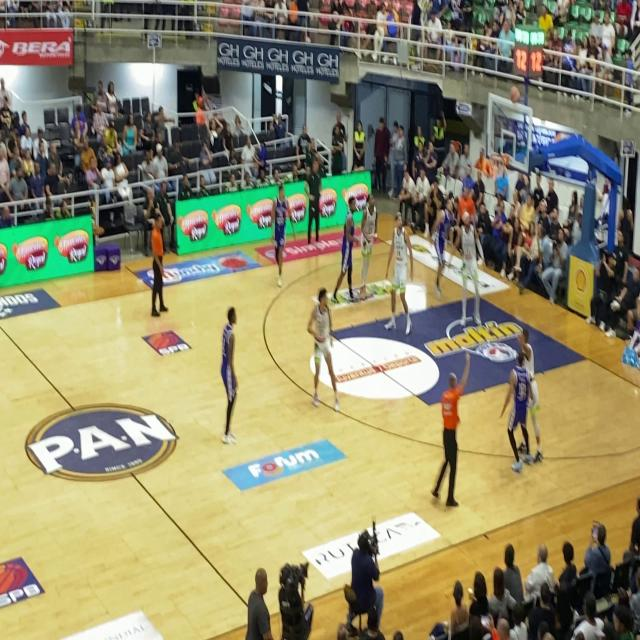Ball: (506, 83, 523, 106)
referee: (430, 350, 477, 514), (148, 202, 168, 331)
team1: (450, 191, 489, 343), (304, 277, 342, 419), (382, 206, 416, 341), (356, 180, 384, 310)
team2: (213, 295, 249, 448), (503, 338, 530, 477), (430, 172, 458, 303), (334, 186, 360, 324), (265, 168, 292, 294), (490, 152, 507, 180)
